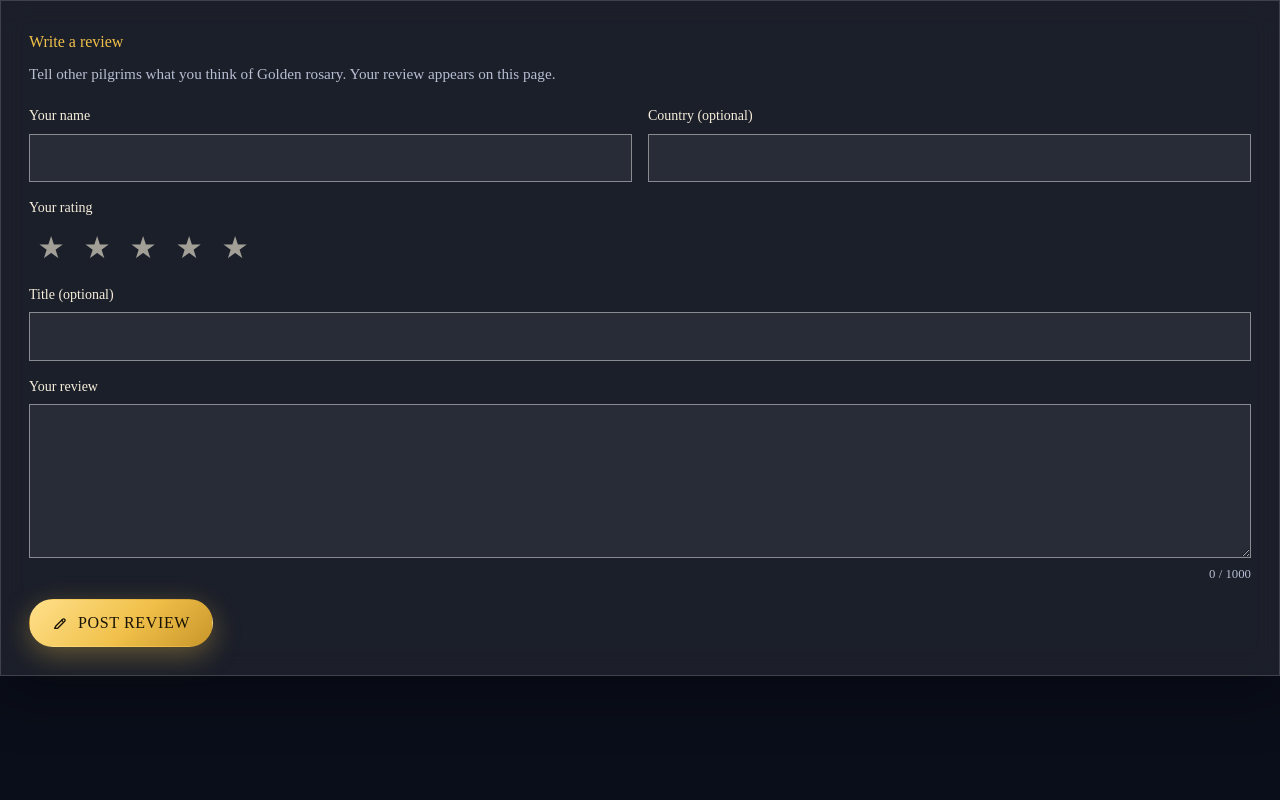
Test: ProductReviewForm › checks the fields before sending and focuses the first problem
Click the button "Post review" at {"x": 121, "y": 623}, box x1=29 y1=599 x2=213 y2=647
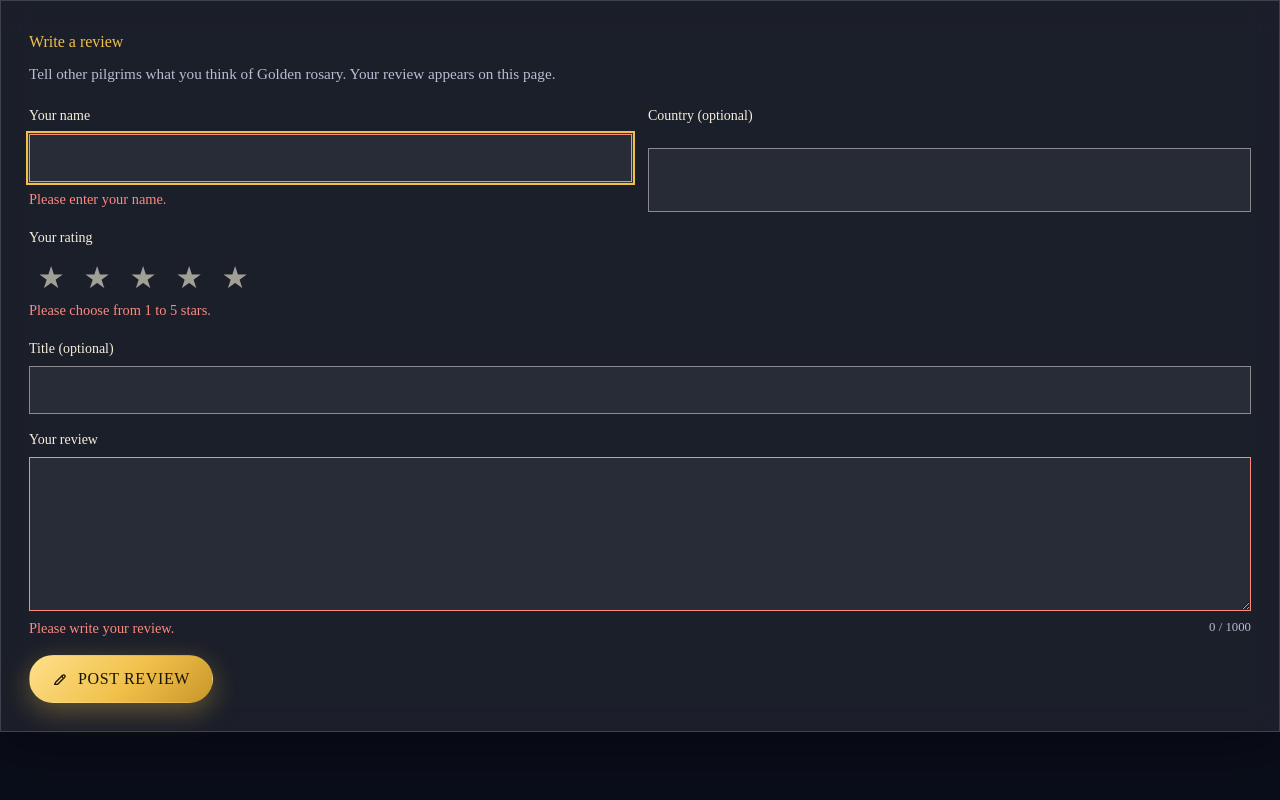
Expected: the field labelled "Your name" is shown, x1=29 y1=134 x2=632 y2=182
Result: the text "Please choose from 1 to 5 stars." is shown at x1=29 y1=302 x2=211 y2=318
Result: the text "Please write your review." is shown at x1=29 y1=617 x2=174 y2=641
